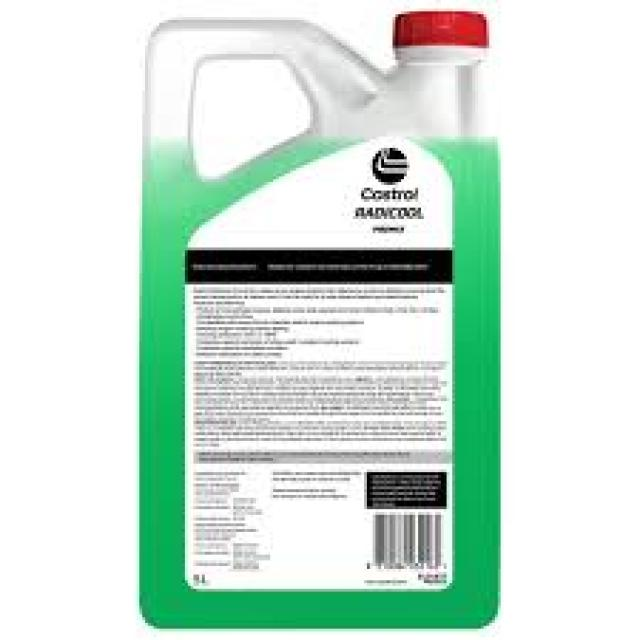coolant: (131, 8, 505, 636)
